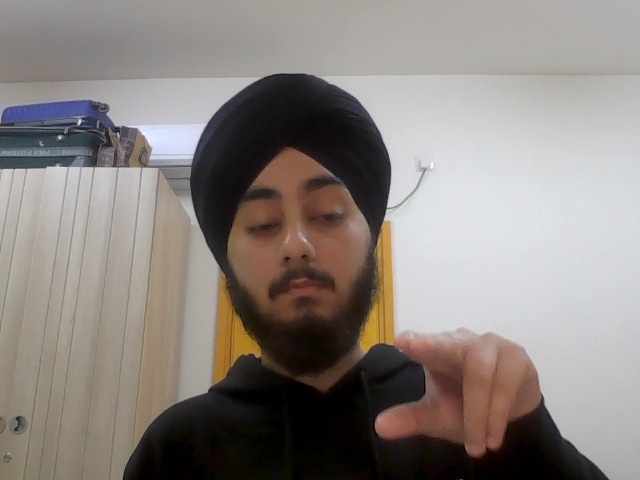No: (372, 317, 551, 461)
